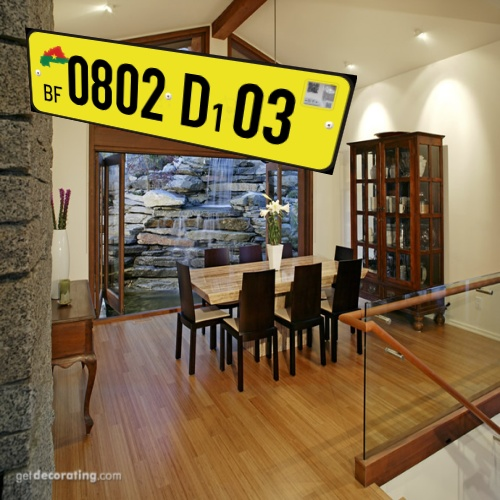plate: (20, 22, 377, 190)
